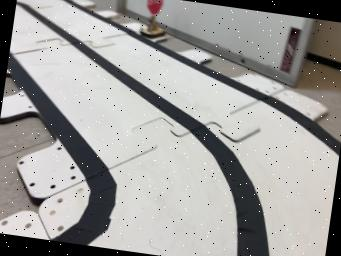stop: (139, 0, 167, 38), (139, 0, 167, 38), (139, 0, 167, 38), (139, 0, 167, 38), (139, 0, 167, 38), (139, 0, 167, 38)
street: (5, 0, 341, 256), (5, 0, 341, 256), (5, 0, 341, 256), (5, 0, 341, 256), (5, 0, 341, 256), (5, 0, 341, 256)
